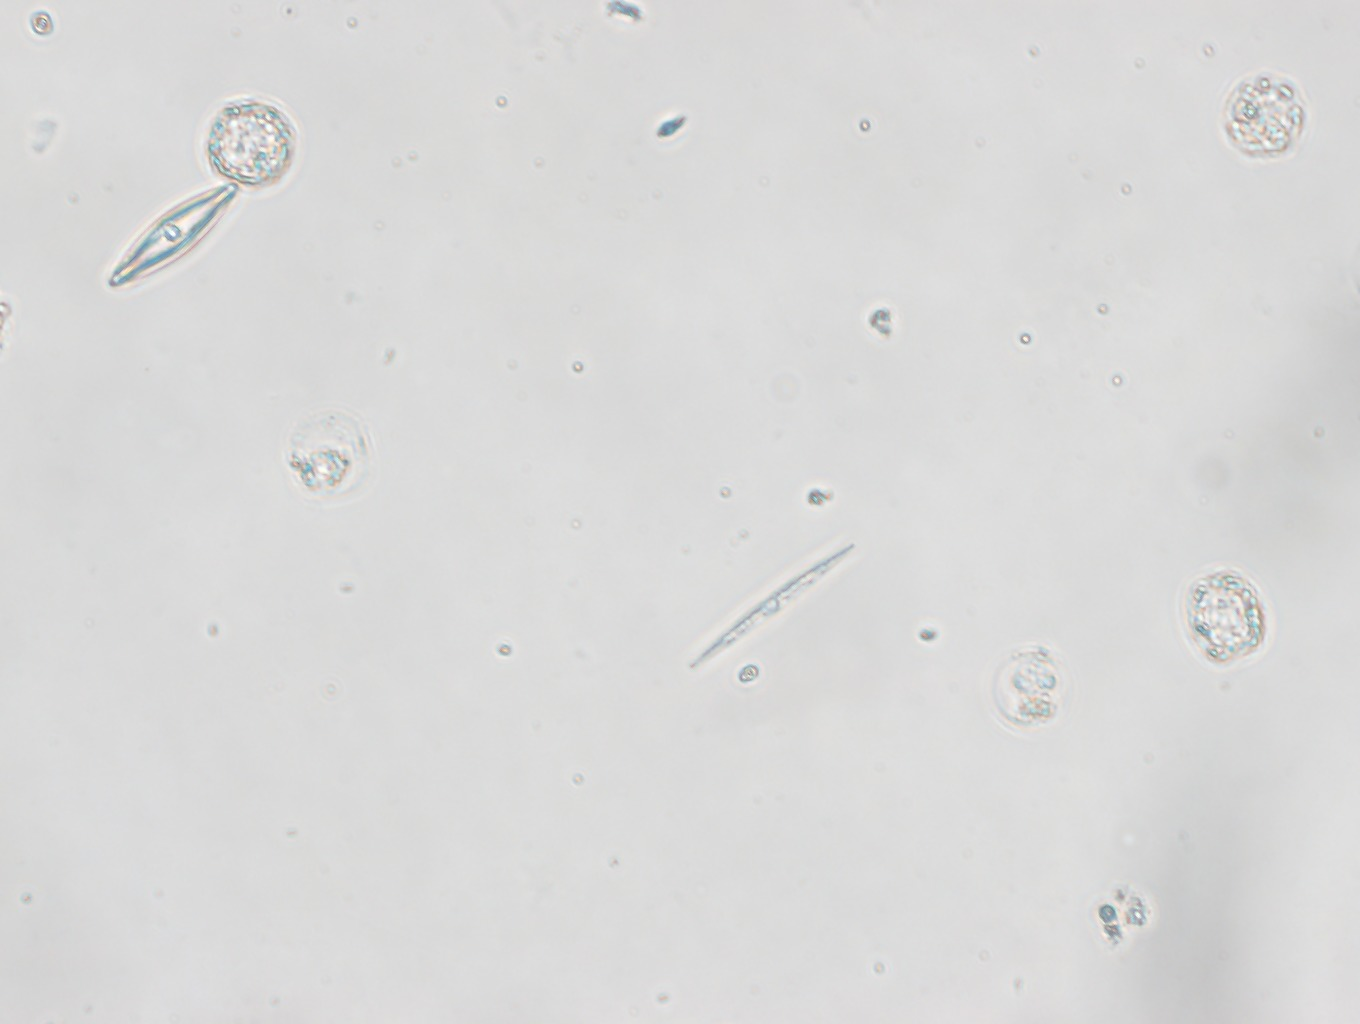navicula: (684, 529, 860, 678), (94, 168, 242, 295)
